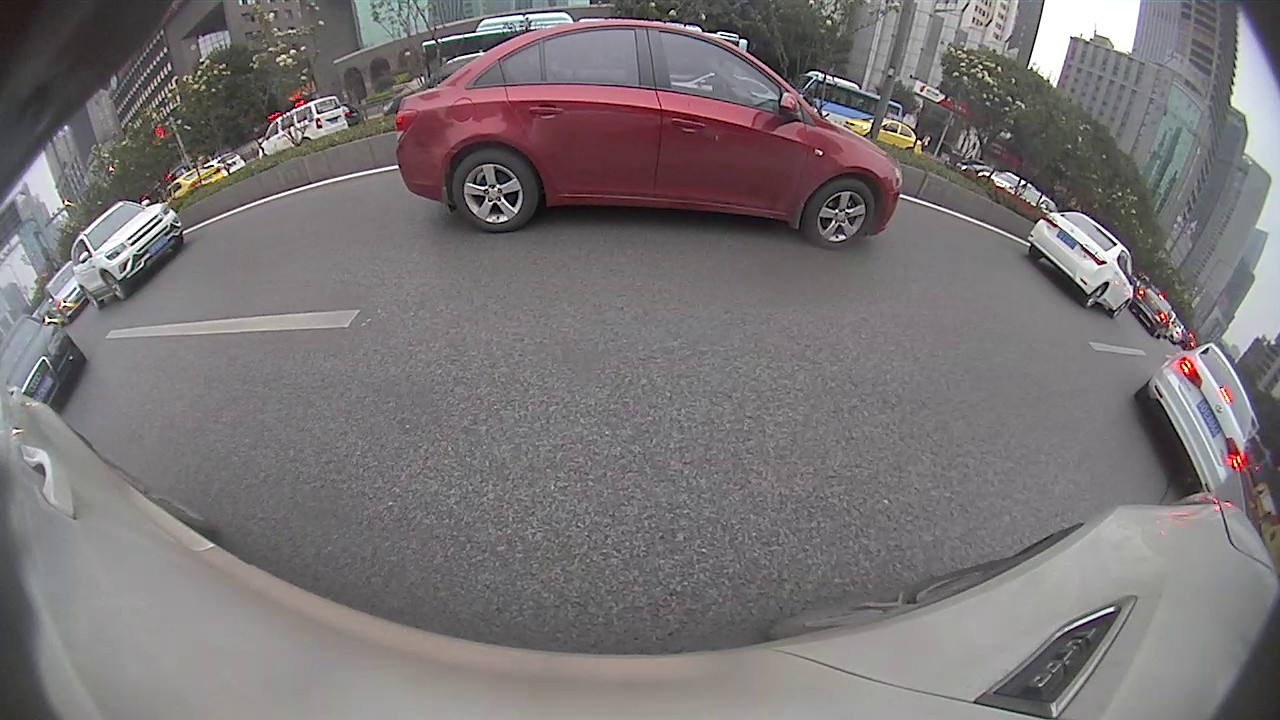car: (393, 19, 903, 252), (1133, 342, 1255, 495), (70, 199, 186, 308), (1028, 210, 1138, 317), (1, 308, 86, 410)
front: (801, 181, 873, 250), (100, 269, 127, 303)
rear: (453, 151, 536, 233), (1084, 284, 1109, 309)
